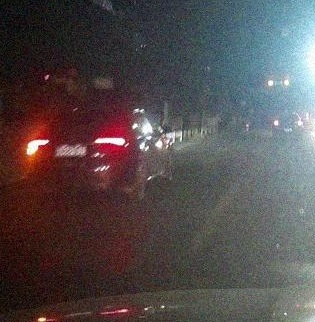L_light: (27, 140, 49, 155)
R_light: (94, 137, 126, 151)
T_light: (89, 114, 103, 119)
night-left: (26, 107, 132, 201)
